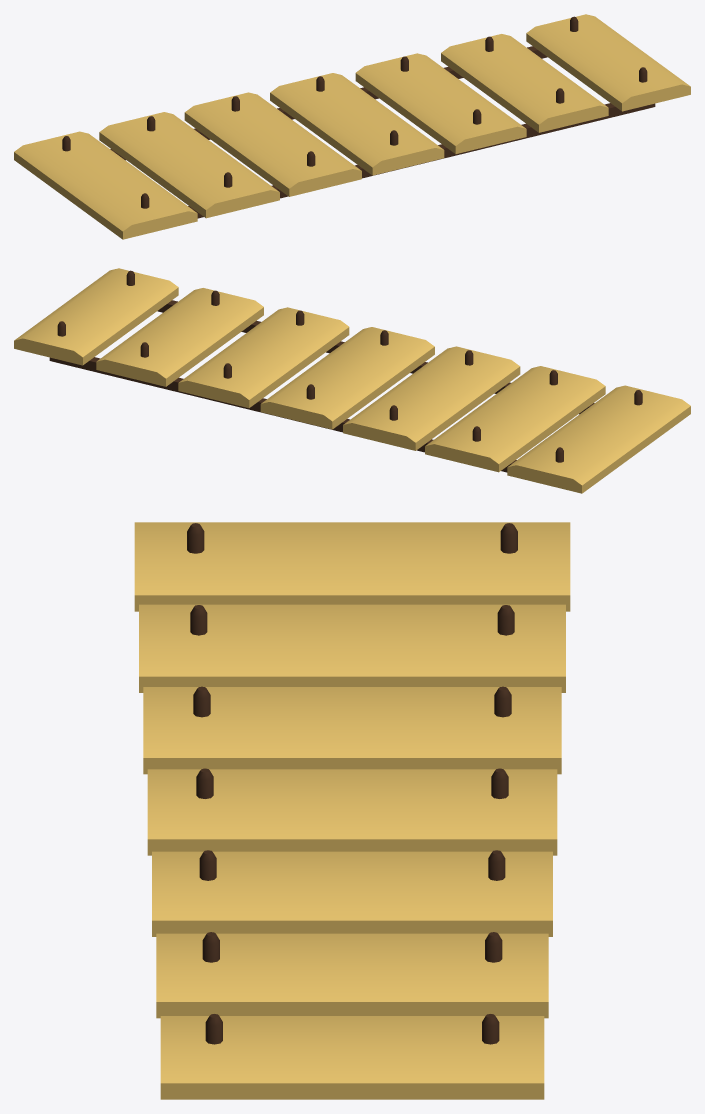
The model's file is gamelar_demung.fbx.
The picture shows the model from 3 angles, top to bottom: view 1: azimuth 30°, elevation 25°; view 2: azimuth 150°, elevation 25°; view 3: azimuth 270°, elevation 25°; orthographic projection. The views are drawn at different scales.
Visible parts, largest first — view 1: Demung_Mesh; view 2: Demung_Mesh; view 3: Demung_Mesh.
Boxes of the visible parts, x1,y1,x2,y2 form: Demung_Mesh: (14,14,690,239); Demung_Mesh: (14,268,690,493); Demung_Mesh: (134,522,570,1099).
Bounding box in the file's own units: 0.768 × 0.0445 × 0.252.
